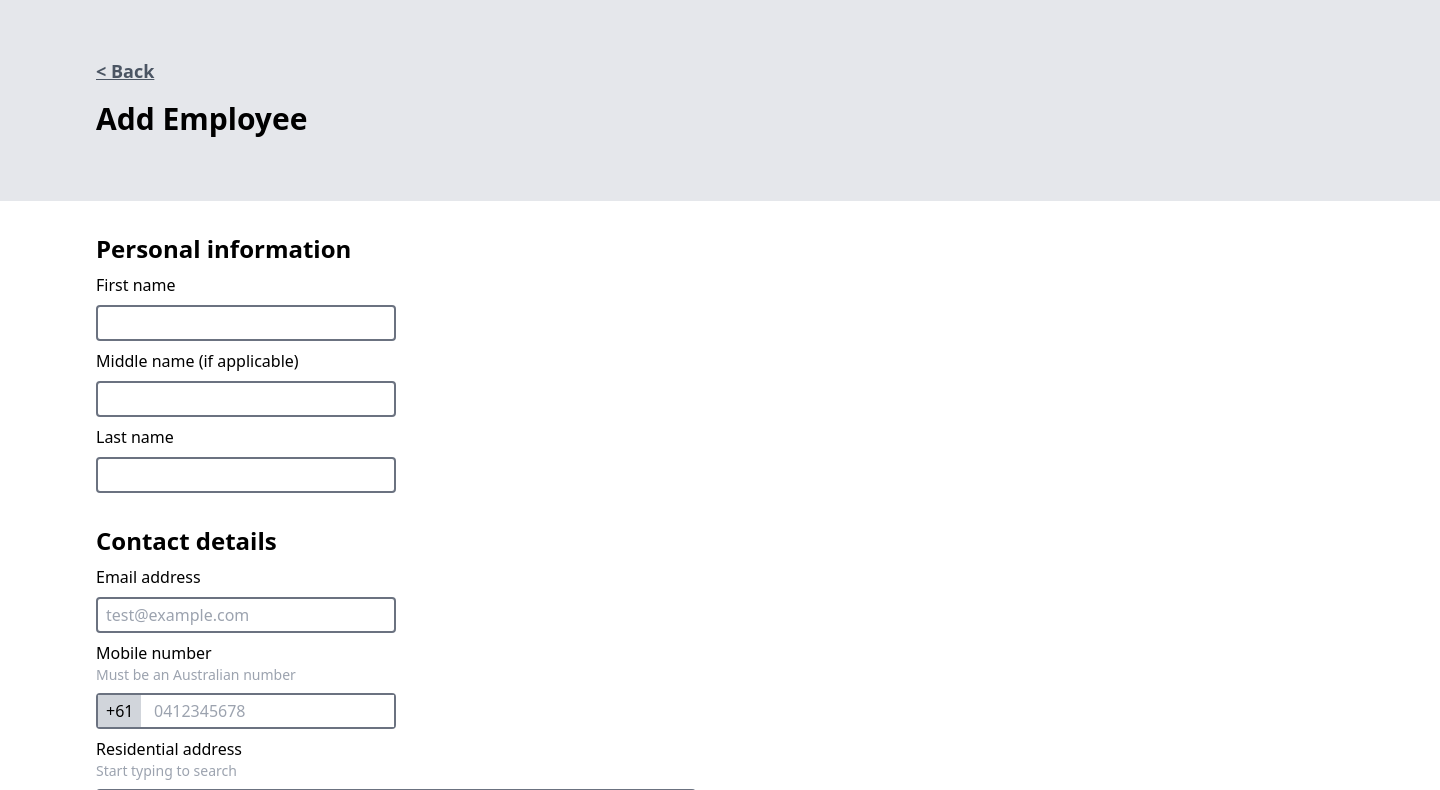
EmployeeAdd Component Tests › should display Alphabetic characters only error when first/middle/last inputs have non alphabetic characters on form submit
In the field with test id "firstName": (246, 323) [96,305,396,341], type "Pizza  Pizza"
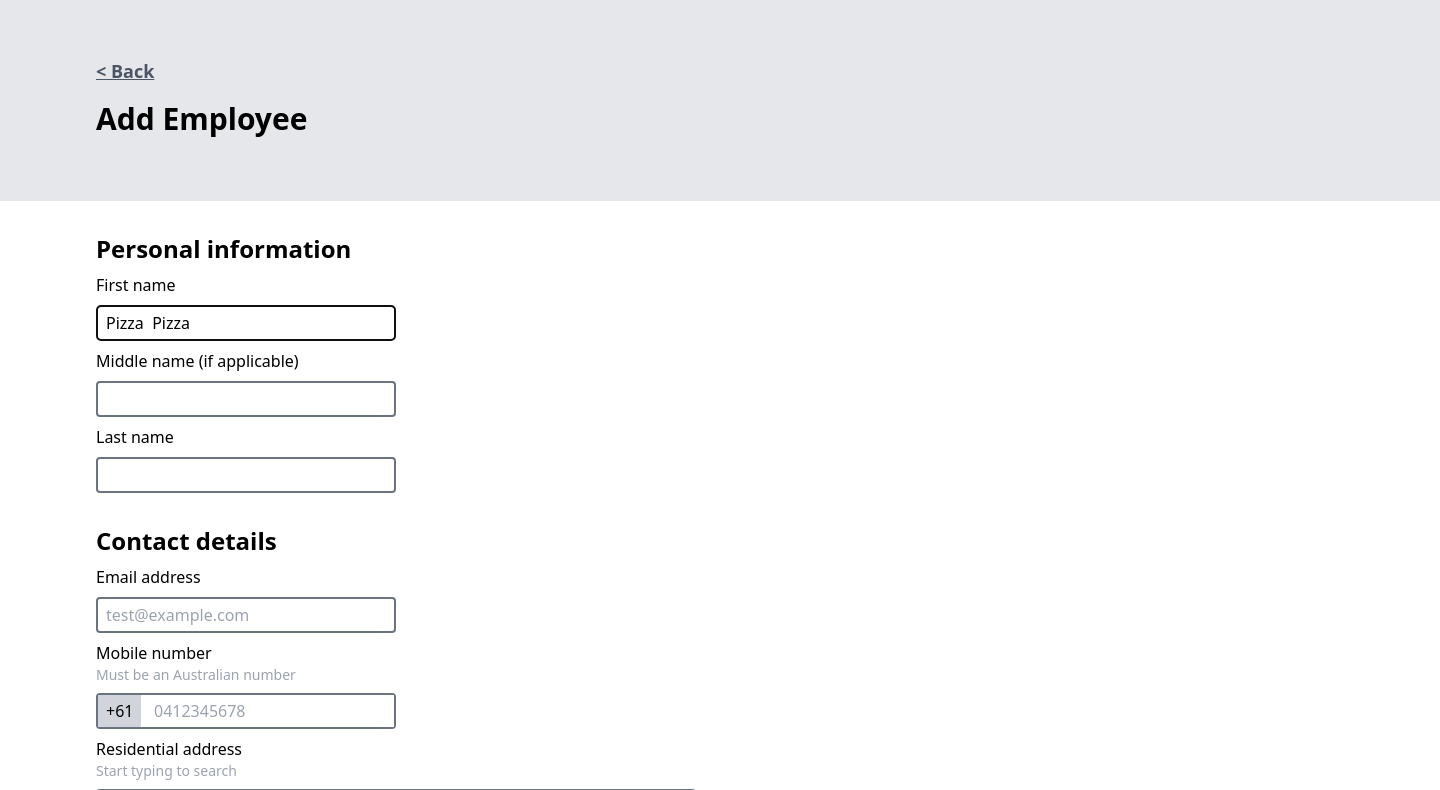
In the field with test id "middleName": (246, 399) [96,381,396,417], type "Peter2018"
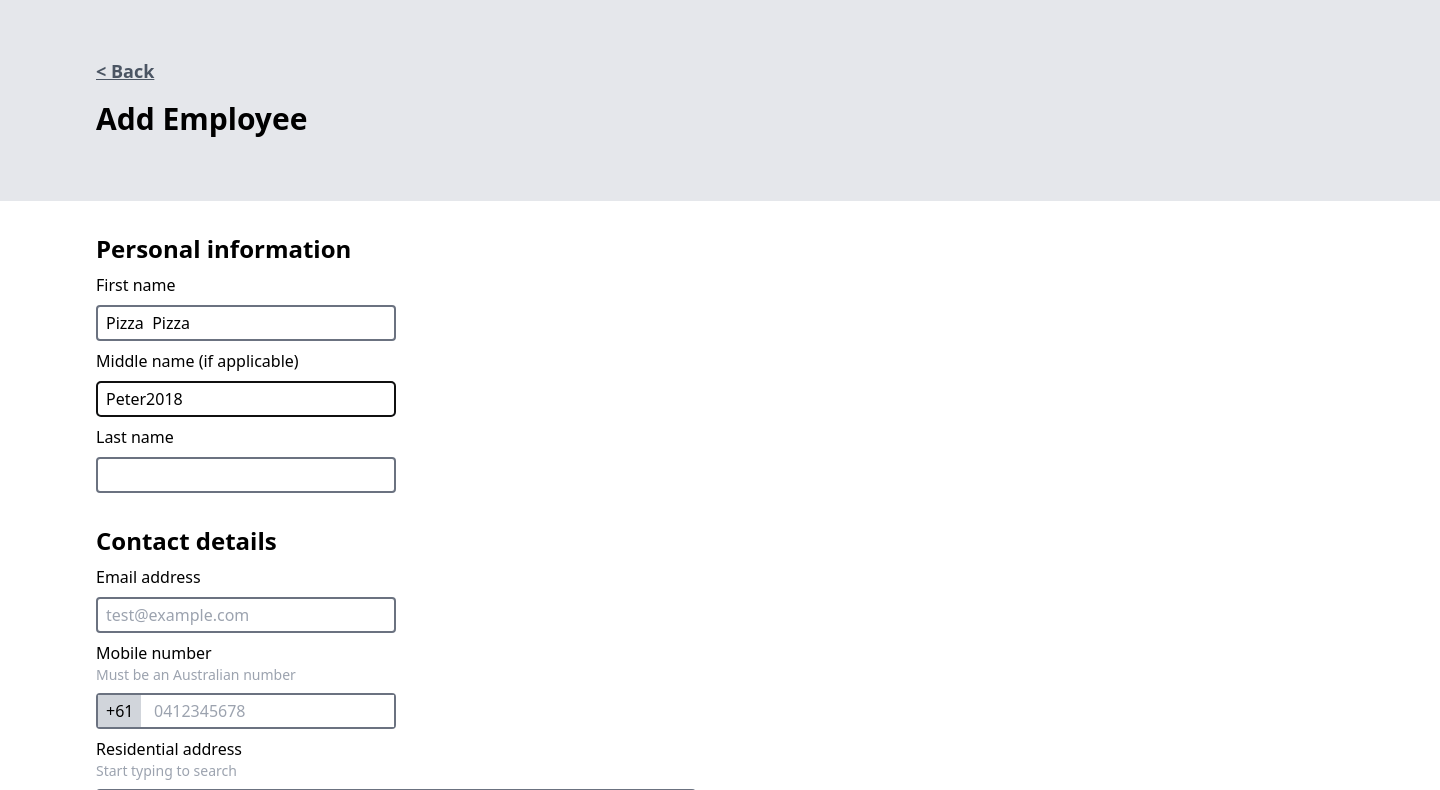
In the field with test id "lastName": (246, 475) [96,457,396,493], type "Jack_"
(page scrolled)
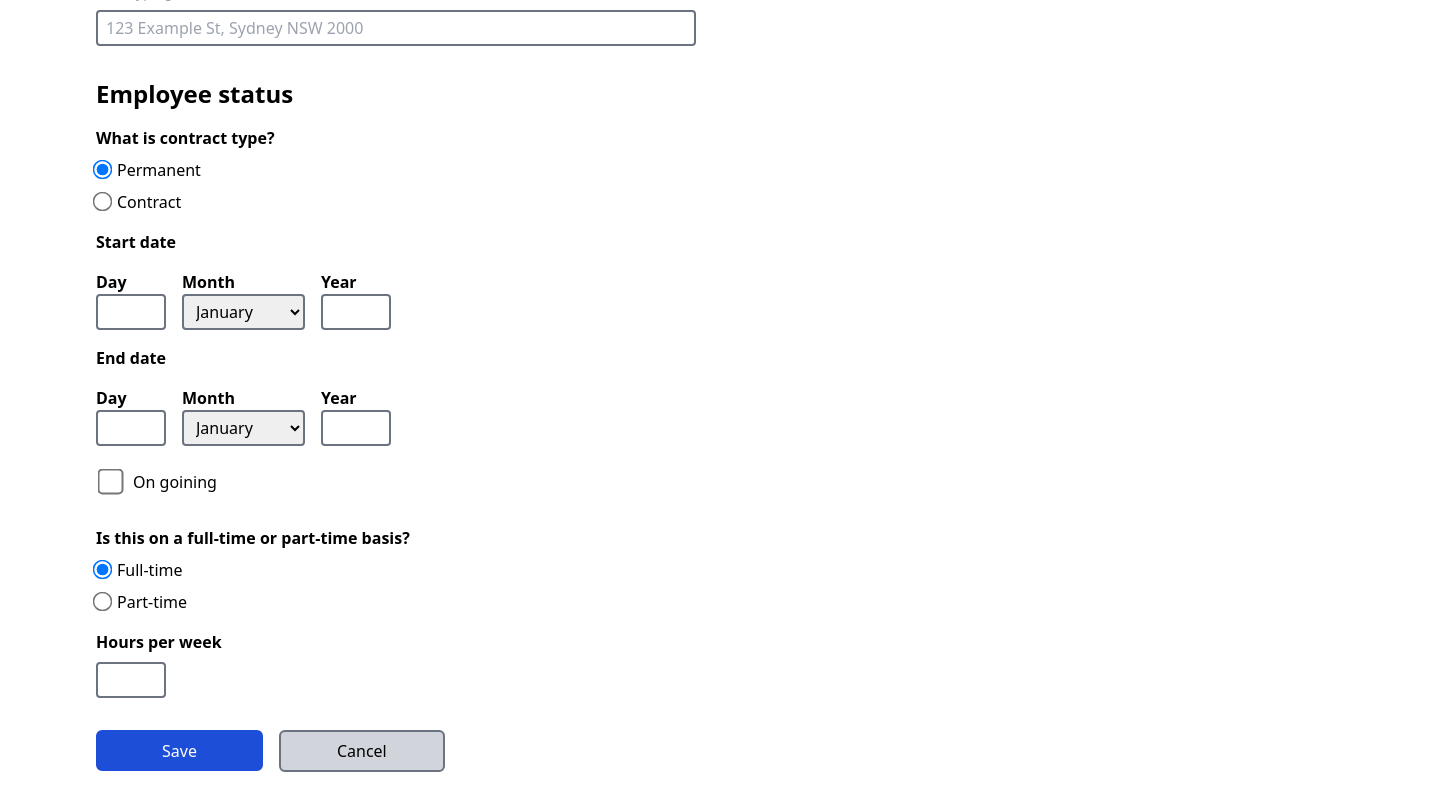
Click the button "Save": (179, 750) [96,730,263,771]
(page scrolled)
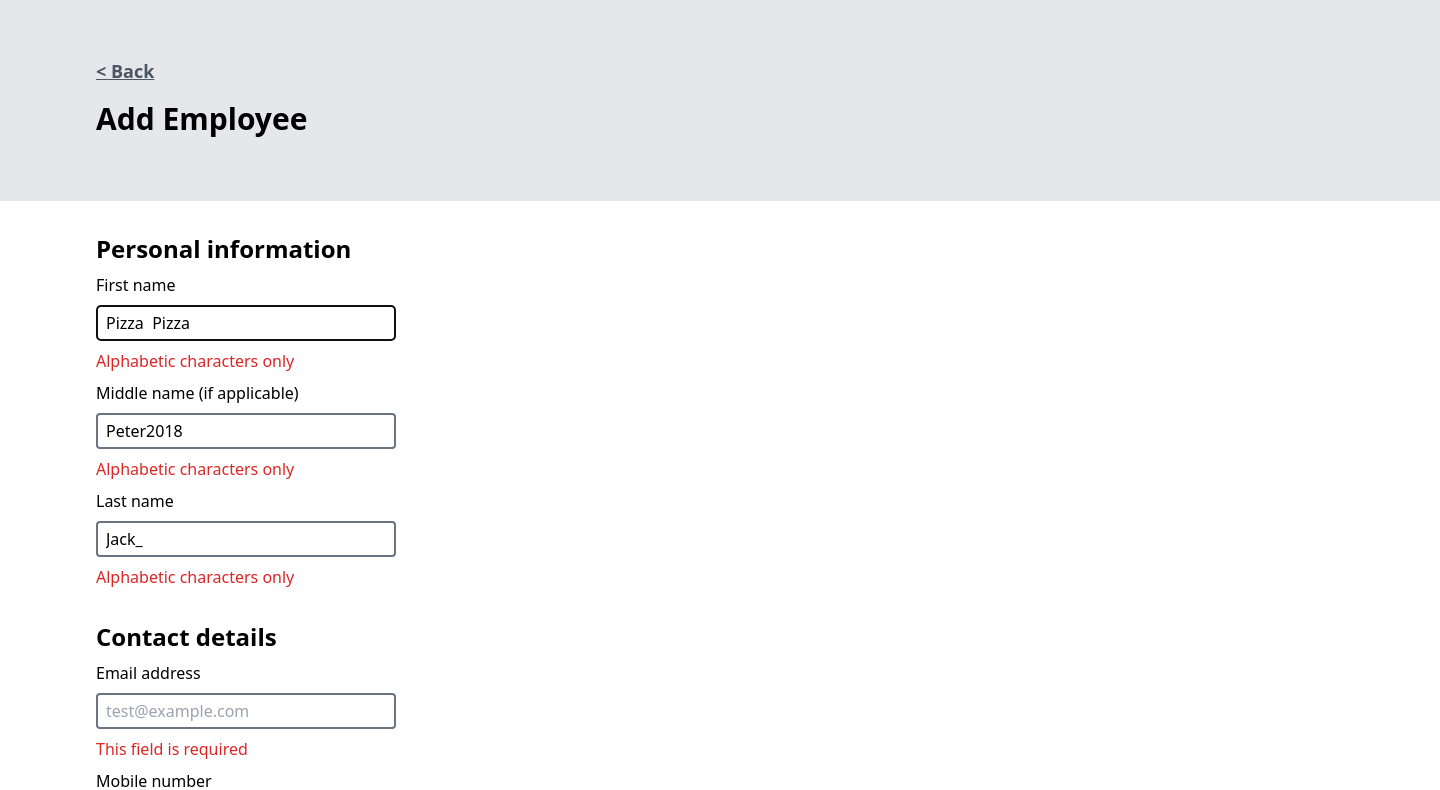
Expected: the text "Alphabetic characters only" is shown 3 times, [96,350,294,372]; [96,458,294,480]; [96,566,294,588]
